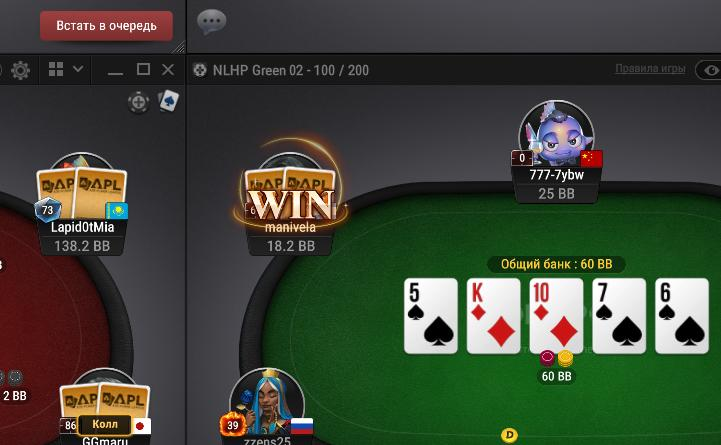10d: (531, 280, 582, 354)
5s: (404, 278, 458, 353)
6s: (656, 279, 711, 354)
7s: (594, 280, 644, 353)
Kd: (467, 279, 521, 354)
